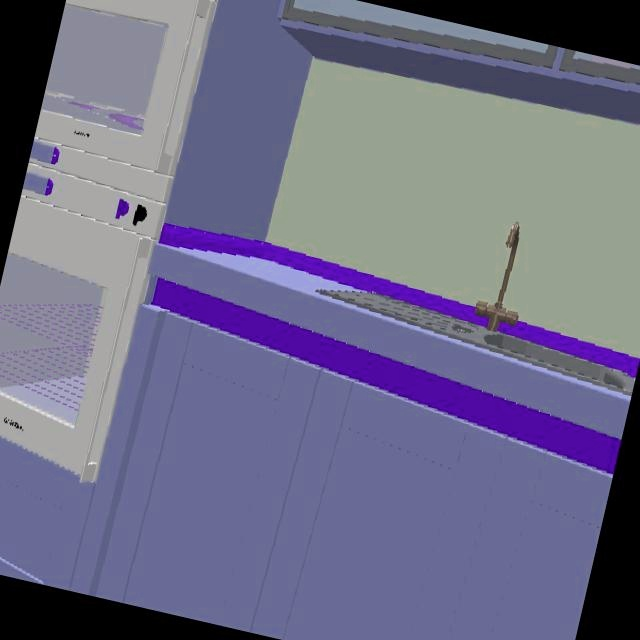microwave: (29, 0, 217, 204)
oven: (0, 159, 166, 483)
sink: (316, 292, 635, 396)
